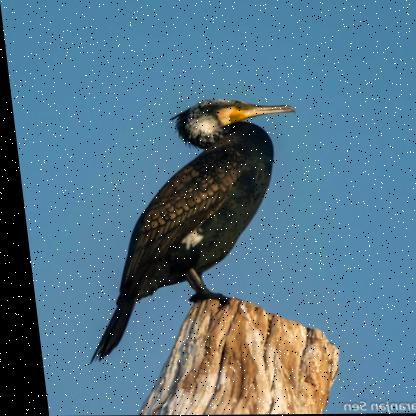Burung: (52, 97, 321, 369)
